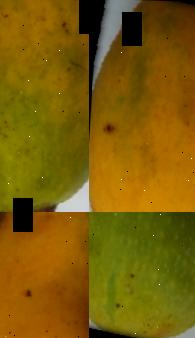PartiallyRipe: (0, 0, 89, 212)
Ripe: (89, 0, 195, 212), (0, 212, 89, 338)
Unripe: (89, 212, 195, 338)
